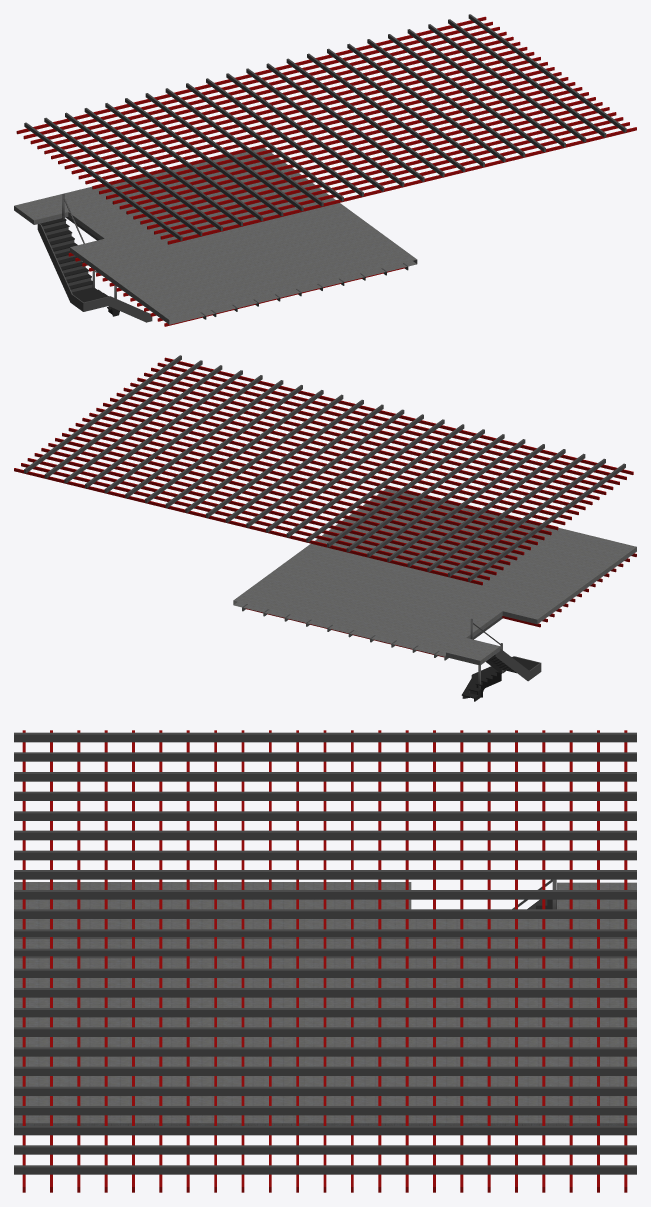
File: Gallery_Ceiling.fbx
3 renders of one model, top to bottom at view 1: azimuth 30°, elevation 25°; view 2: azimuth 150°, elevation 25°; view 3: azimuth 270°, elevation 25°, orthographic. The views are drawn at different scales.
Parts seen in each view (by area): view 1: Gallery_Ceiling; view 2: Gallery_Ceiling; view 3: Gallery_Ceiling.
Part boxes in pixels (<box>): Gallery_Ceiling: <box>14,14,636,326</box>; Gallery_Ceiling: <box>14,355,636,701</box>; Gallery_Ceiling: <box>14,730,636,1192</box>.
Bounding box in the file's own units: 2617 × 879 × 1500.
5 materials, 3 textured.
